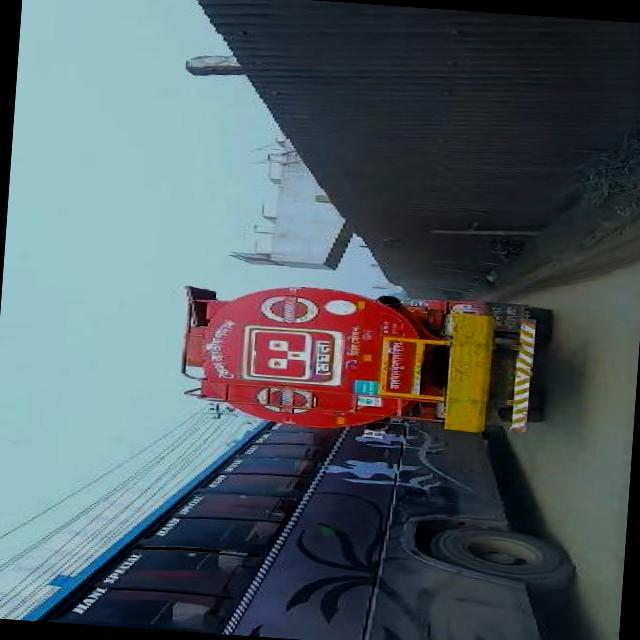bus: (18, 403, 582, 640)
truck: (166, 277, 554, 445)
